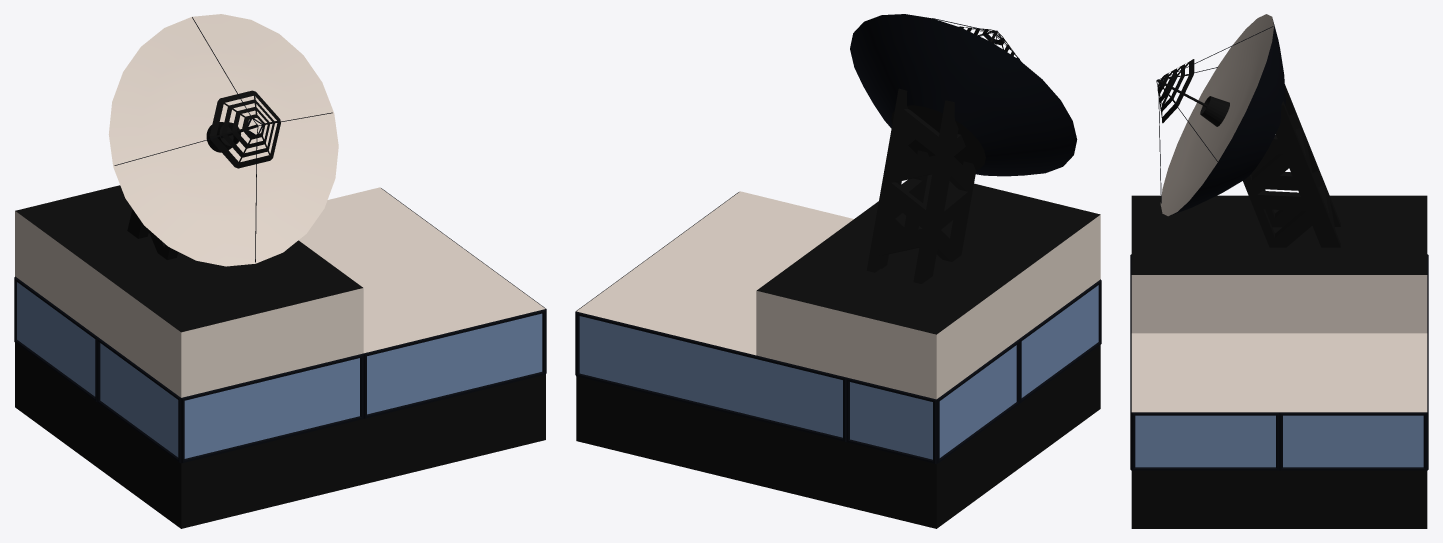
The model's file is Communication center.FBX.
3 renders of one model, left to right at view 1: azimuth 30°, elevation 25°; view 2: azimuth 150°, elevation 25°; view 3: azimuth 270°, elevation 25°, orthographic. The views are drawn at different scales.
Visible parts, largest first — view 1: Box002; view 2: Box002; view 3: Box002.
Part boxes in pixels (x1,y1,x2,y2): Box002: (14,14,546,528); Box002: (575,14,1101,528); Box002: (1130,14,1428,528).
Bounding box in the file's own units: 109 × 116 × 82.02.
